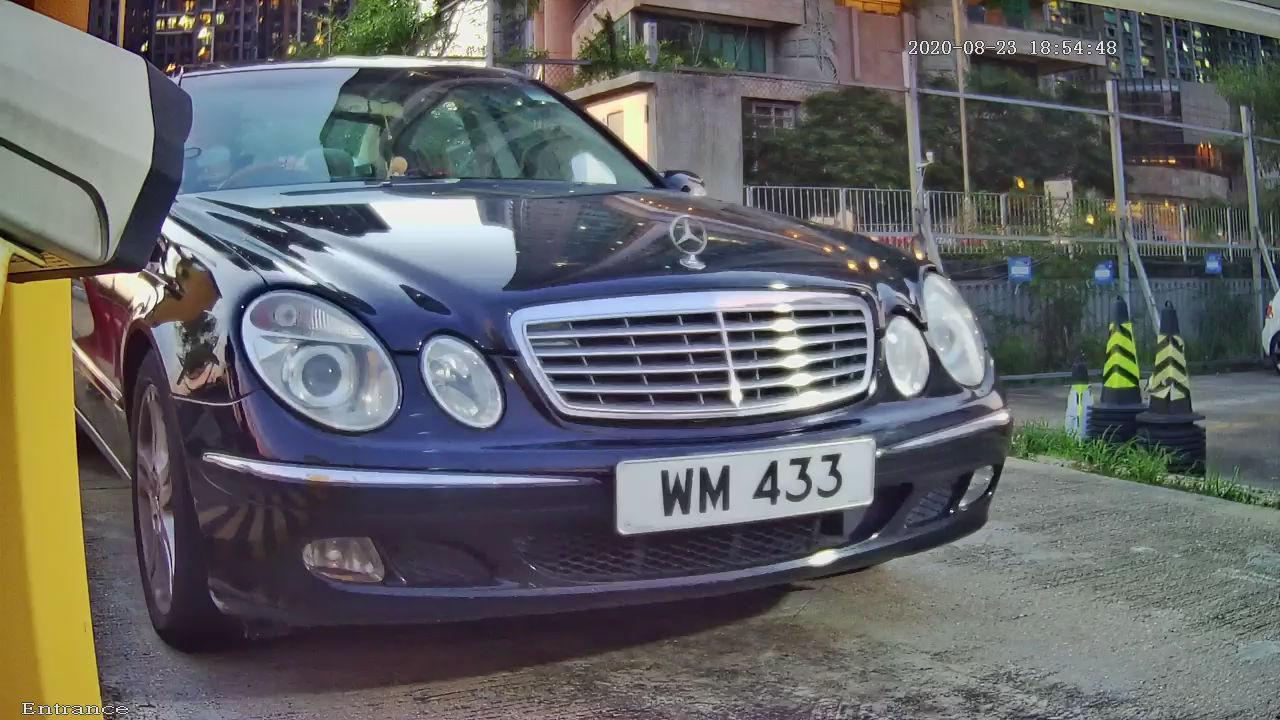Car: (23, 26, 1109, 666)
License Plate: (593, 419, 916, 573)
